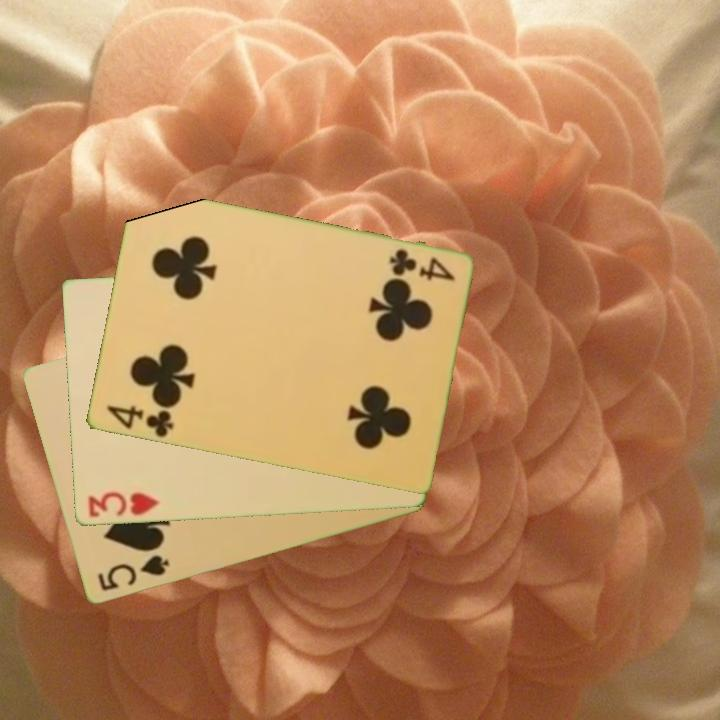3h: (84, 488, 161, 521)
4c: (385, 245, 458, 284), (102, 402, 176, 440)
5s: (94, 552, 172, 595)
